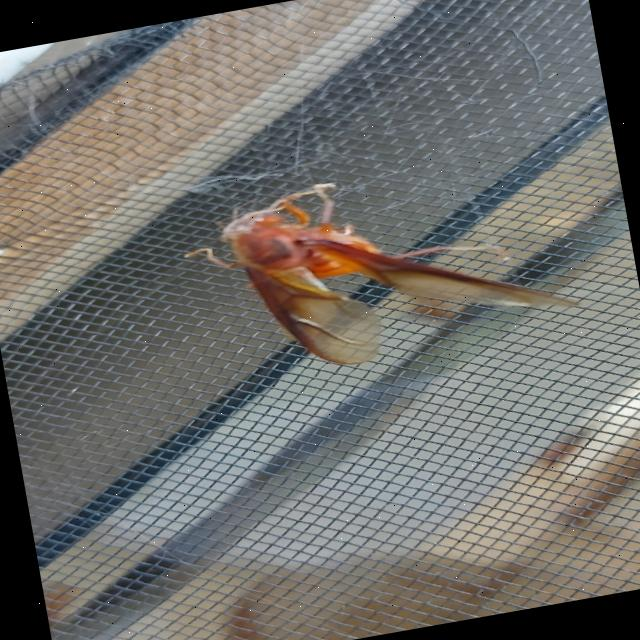Dead-Male-Alate: (174, 142, 582, 390)
